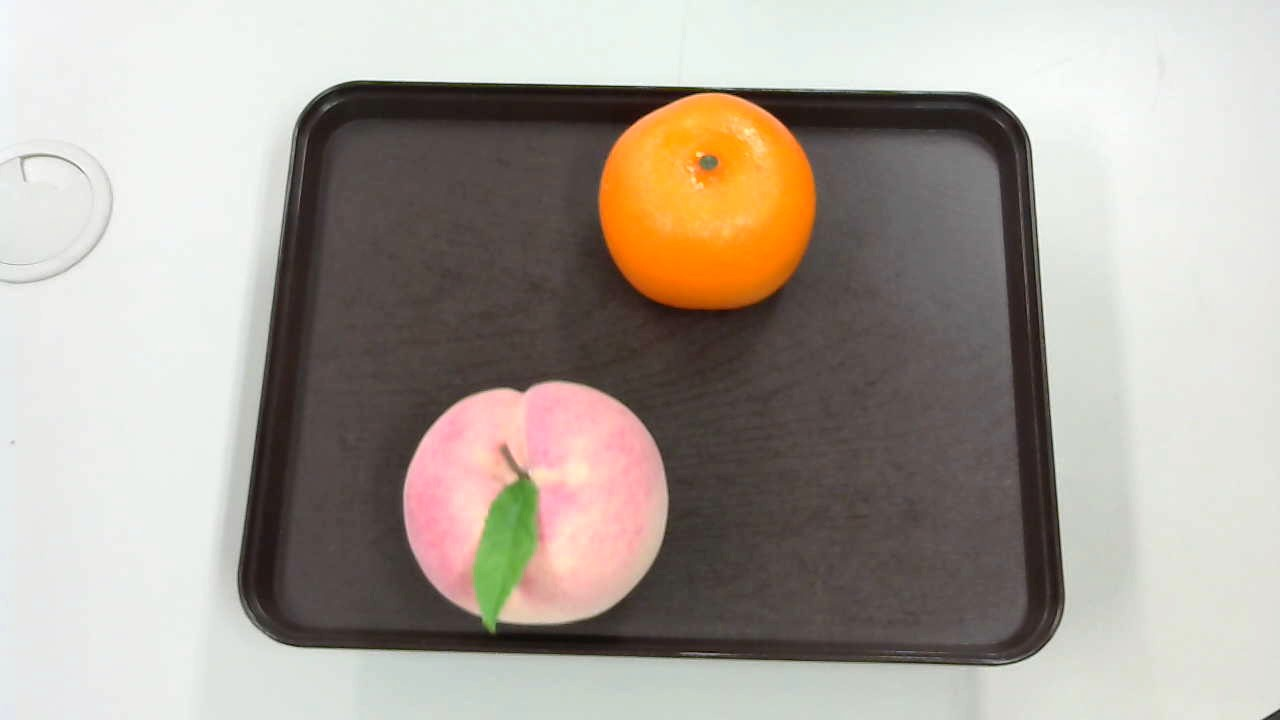orange: (593, 86, 819, 314)
peach: (400, 381, 670, 646)
